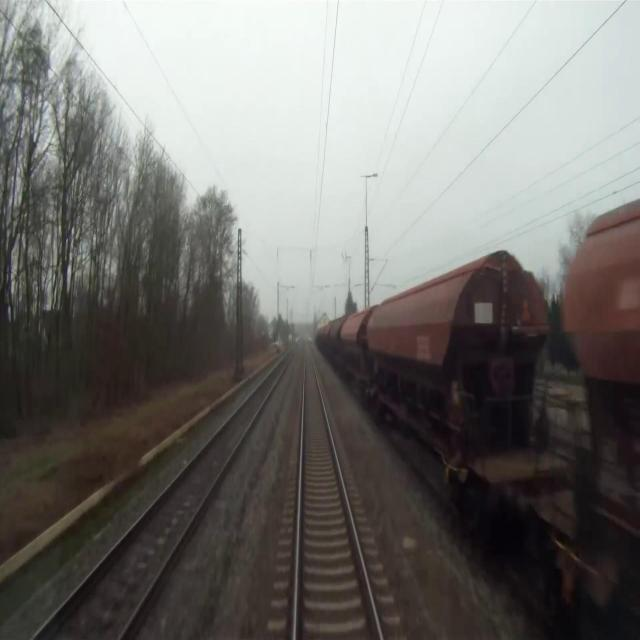rail-track: (36, 351, 291, 639), (297, 338, 379, 639)
